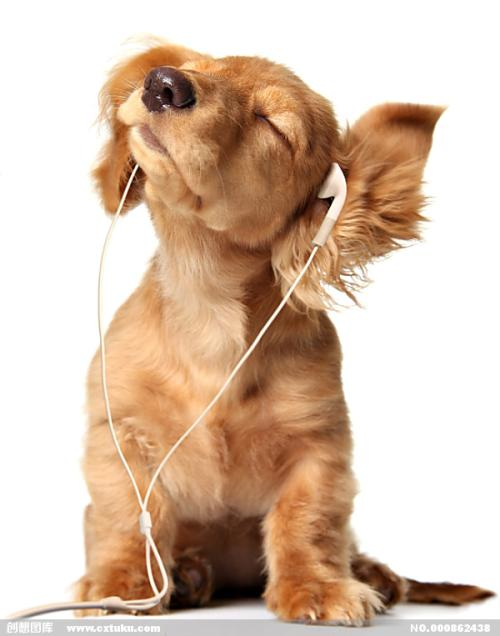dog: (76, 31, 461, 379)
